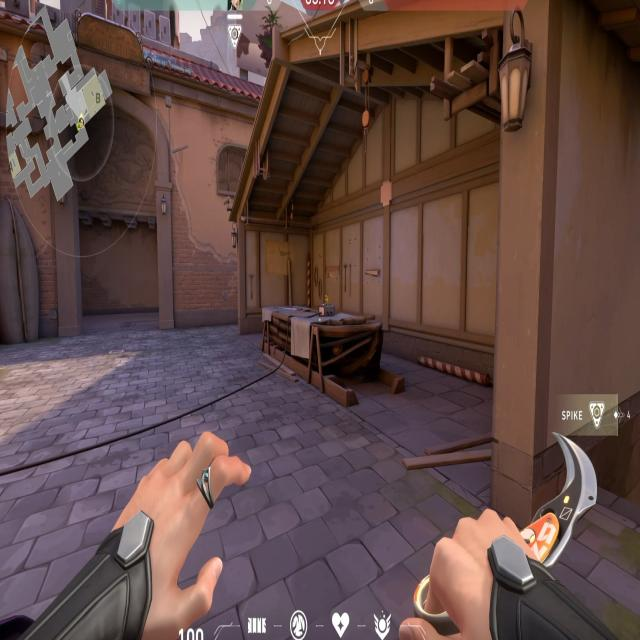B_Garage_Left: (230, 202, 358, 362)
